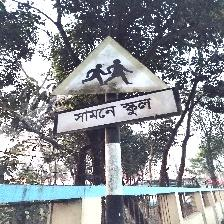School-in-front: (51, 35, 180, 136)
